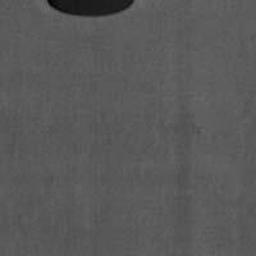Punching: (47, 0, 133, 18)
